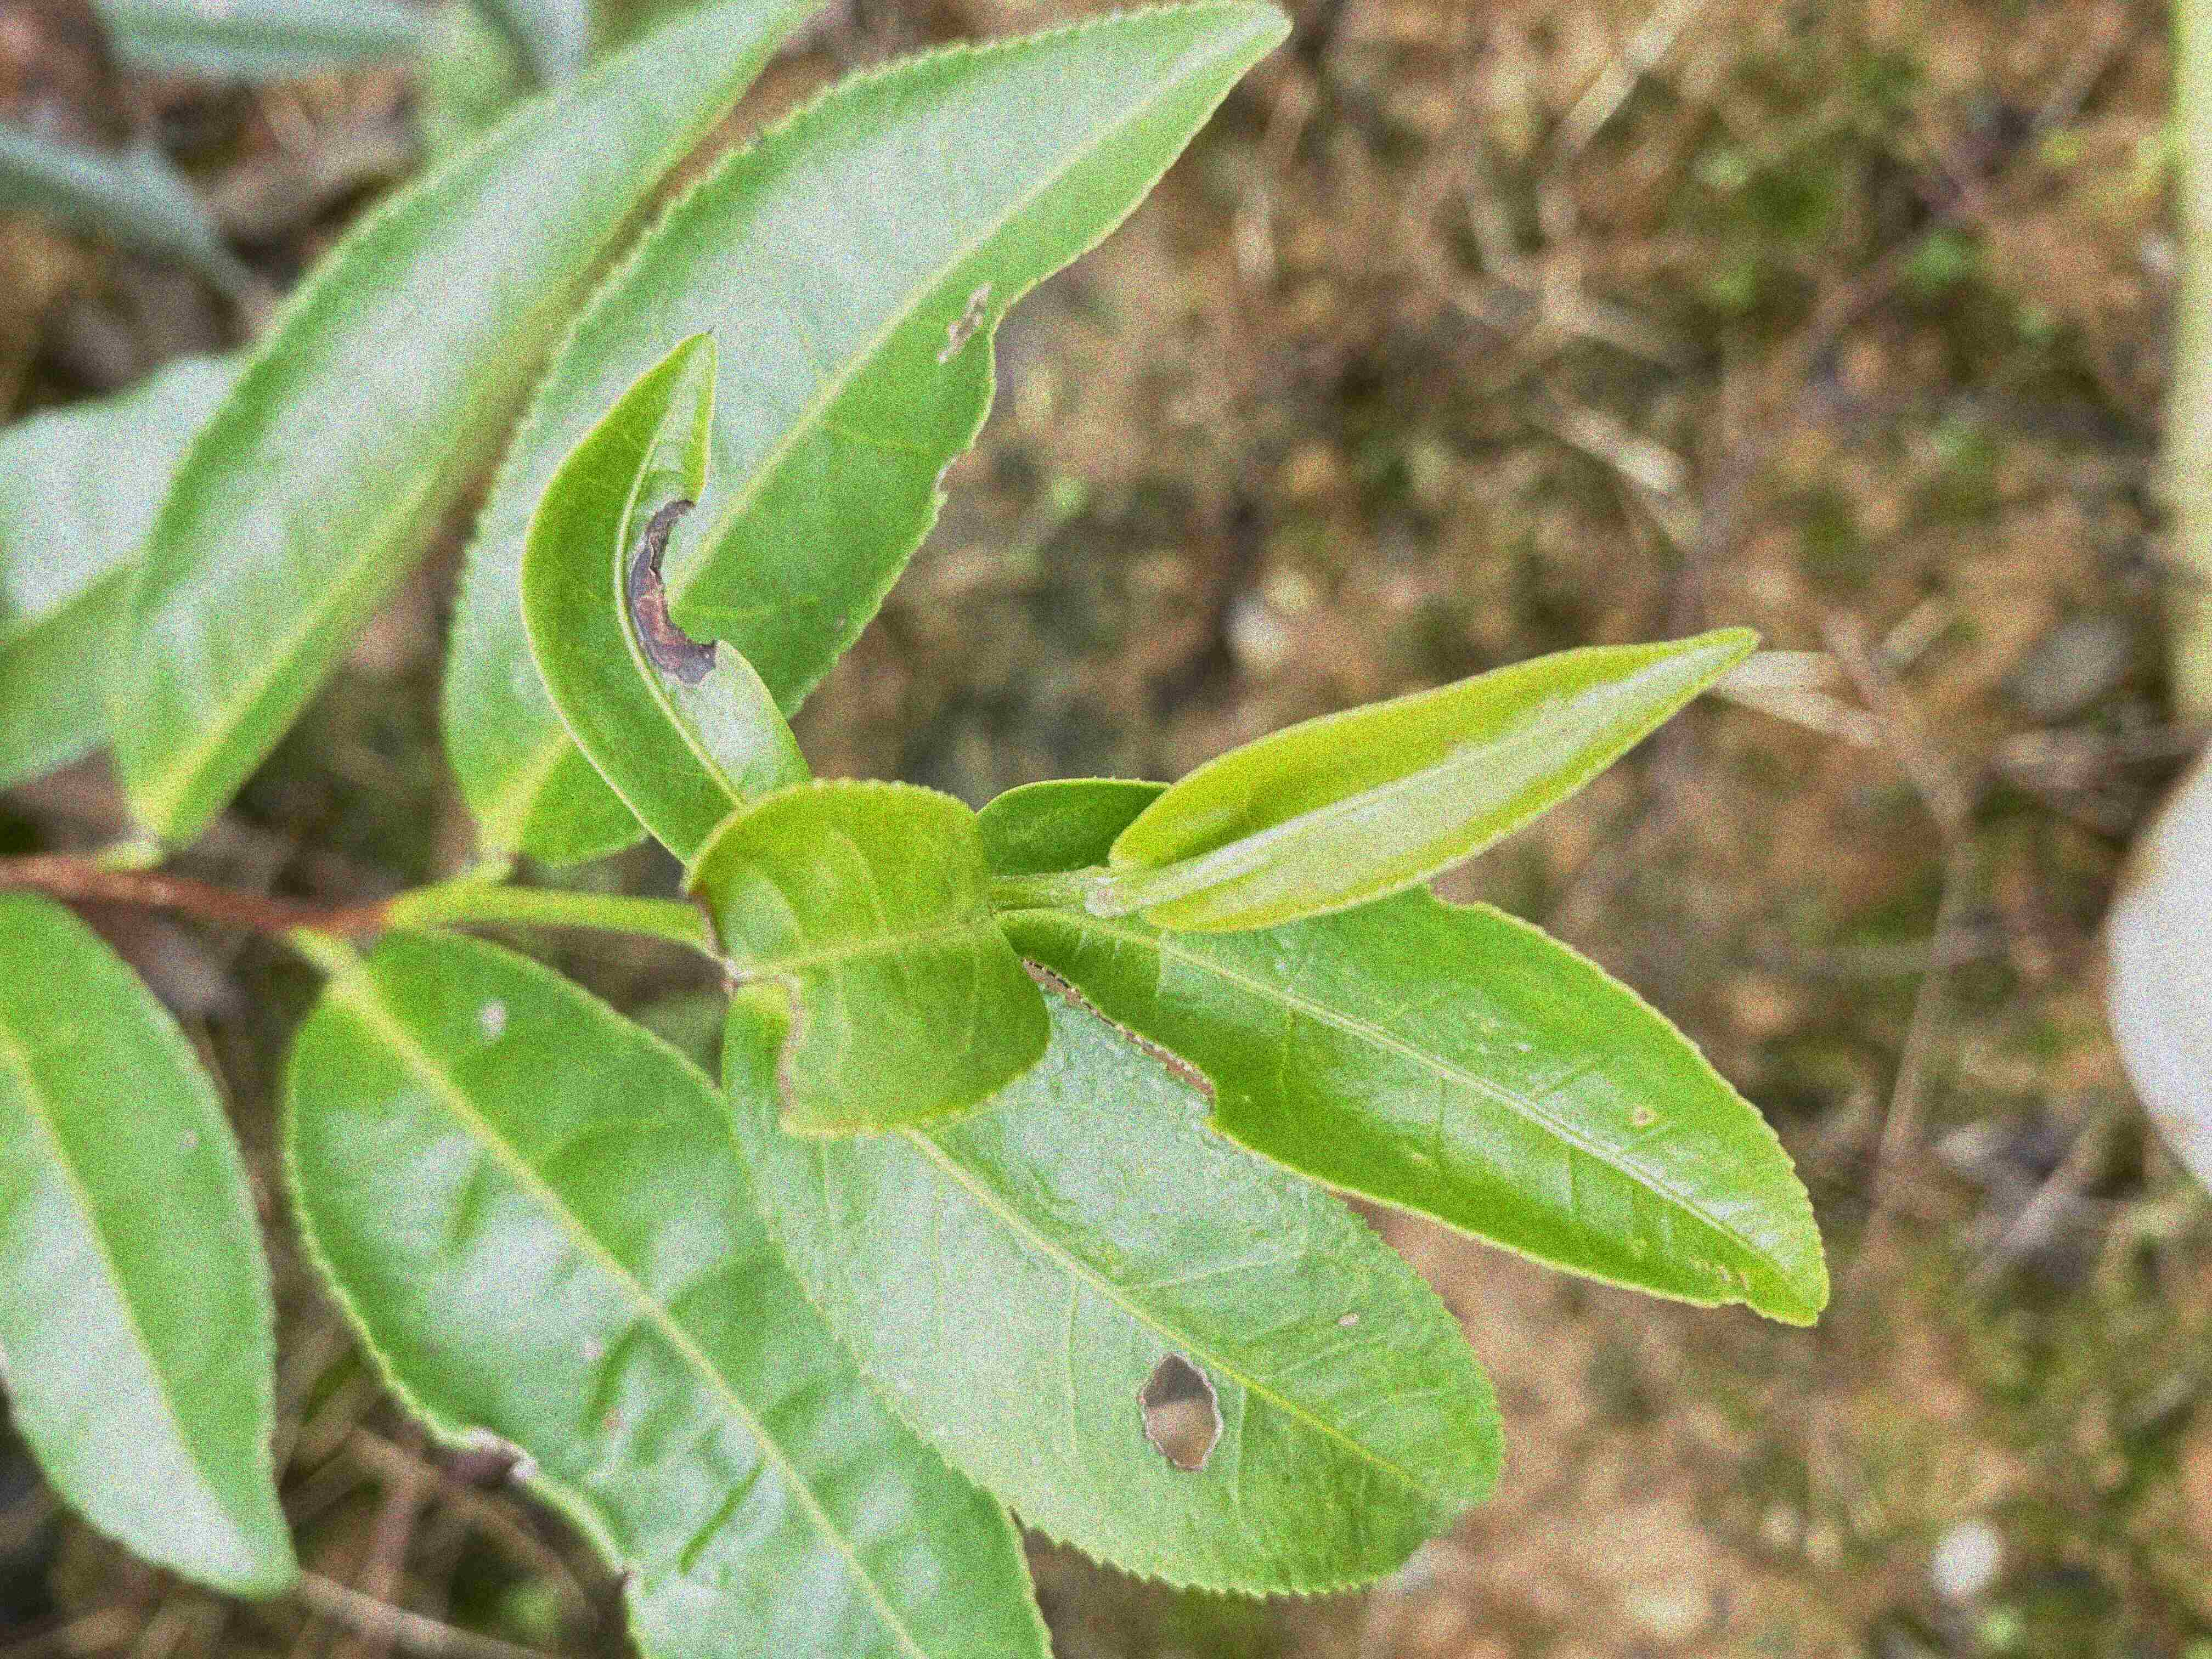chihuo_high: (986, 779, 1832, 1330)
chihuo_low: (723, 967, 1503, 1600), (683, 779, 1052, 1140)
tanju_high: (519, 326, 813, 864)
tanju_low: (286, 927, 1052, 1656), (1106, 627, 1759, 932)
